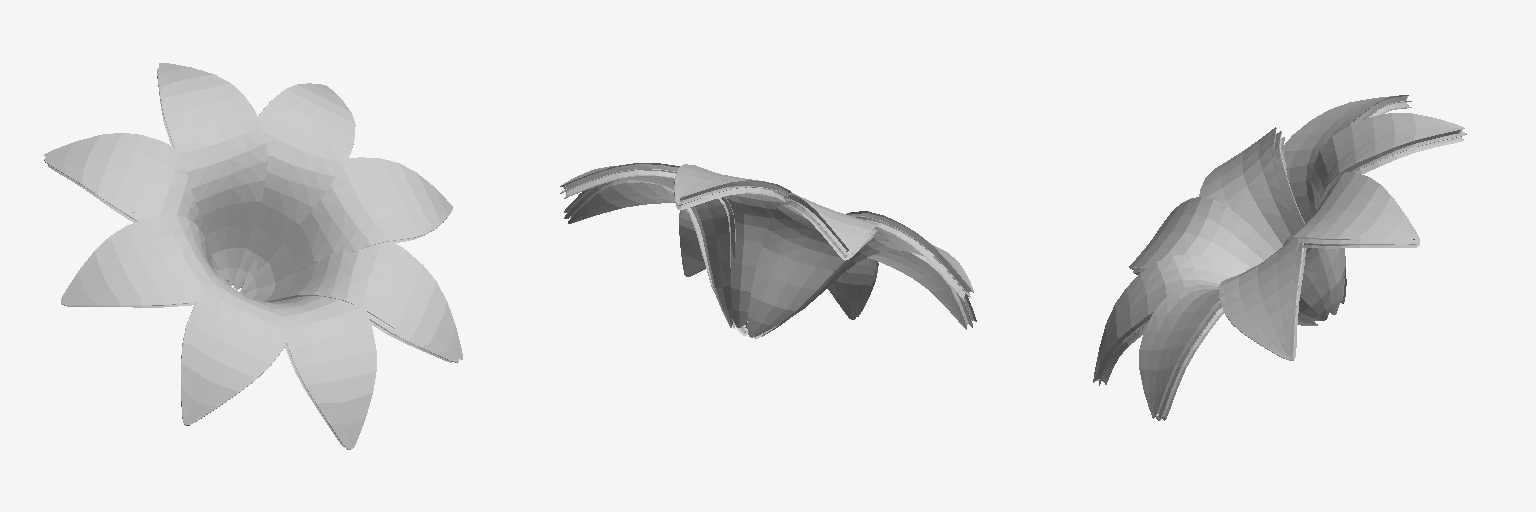
File: seapls only thick.obj
The picture shows the model from 3 angles: view 1: azimuth 30°, elevation 25°; view 2: azimuth 150°, elevation 25°; view 3: azimuth 270°, elevation 25°; orthographic projection.
Visible parts, largest first — view 1: sepals_only; view 2: sepals_only; view 3: sepals_only.
Part boxes in pixels (left/top/right/bottom): sepals_only: left=44, top=63, right=462, bottom=449; sepals_only: left=560, top=163, right=976, bottom=338; sepals_only: left=1093, top=95, right=1466, bottom=420.
Size of the model in its own units: 1.96 by 1.2 by 1.58.